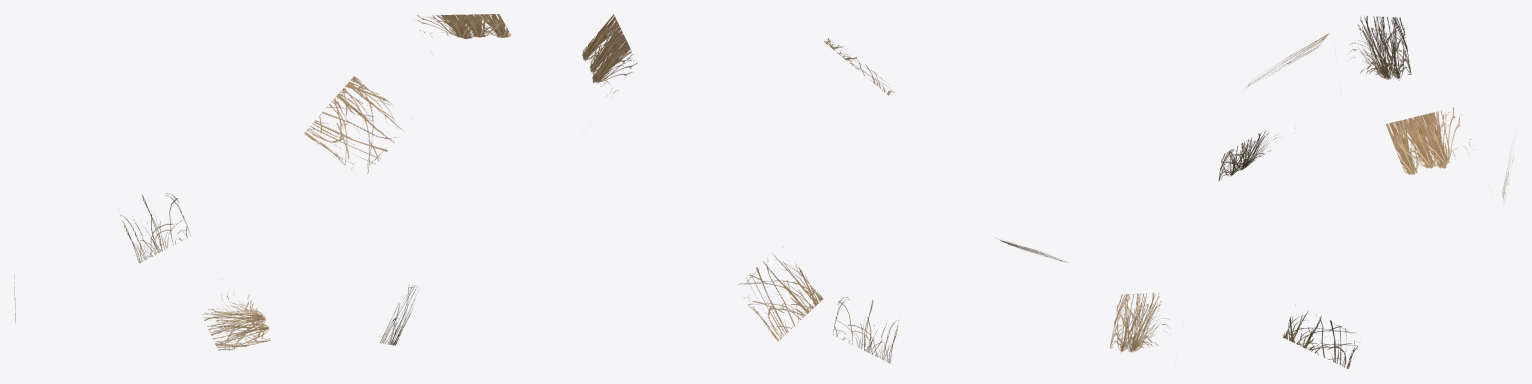
File: grass.glb
The picture shows the model from 3 angles, left to right: view 1: azimuth 30°, elevation 25°; view 2: azimuth 150°, elevation 25°; view 3: azimuth 270°, elevation 25°; orthographic projection. The views are drawn at different scales.
Visible parts, largest first — view 1: cards; view 2: cards; view 3: cards.
Part boxes in pixels (x1=…): cards: x1=14, y1=14, x2=510, y2=350; cards: x1=582, y1=14, x2=1170, y2=363; cards: x1=1218, y1=16, x2=1513, y2=369.
Size of the model in its own units: 1.62 by 0.797 by 0.6775.
Materials: 1 (1 with a texture image).
